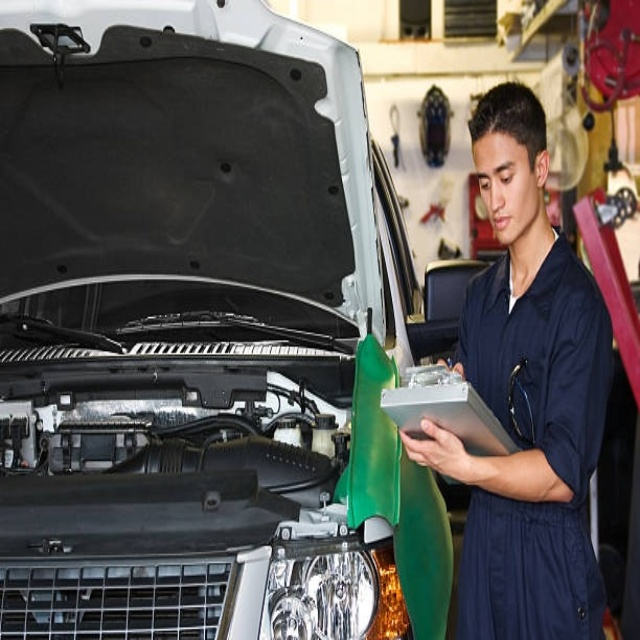Sin_gafas: (475, 155, 522, 193)
Sin_guantes: (396, 413, 468, 478)
Sin_mascara: (488, 209, 516, 238)
